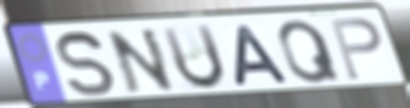A: (231, 23, 293, 88)
N: (103, 26, 179, 96)
P: (327, 16, 384, 83)
Q: (275, 18, 344, 86)
S: (55, 29, 117, 99)
U: (158, 22, 229, 93)
